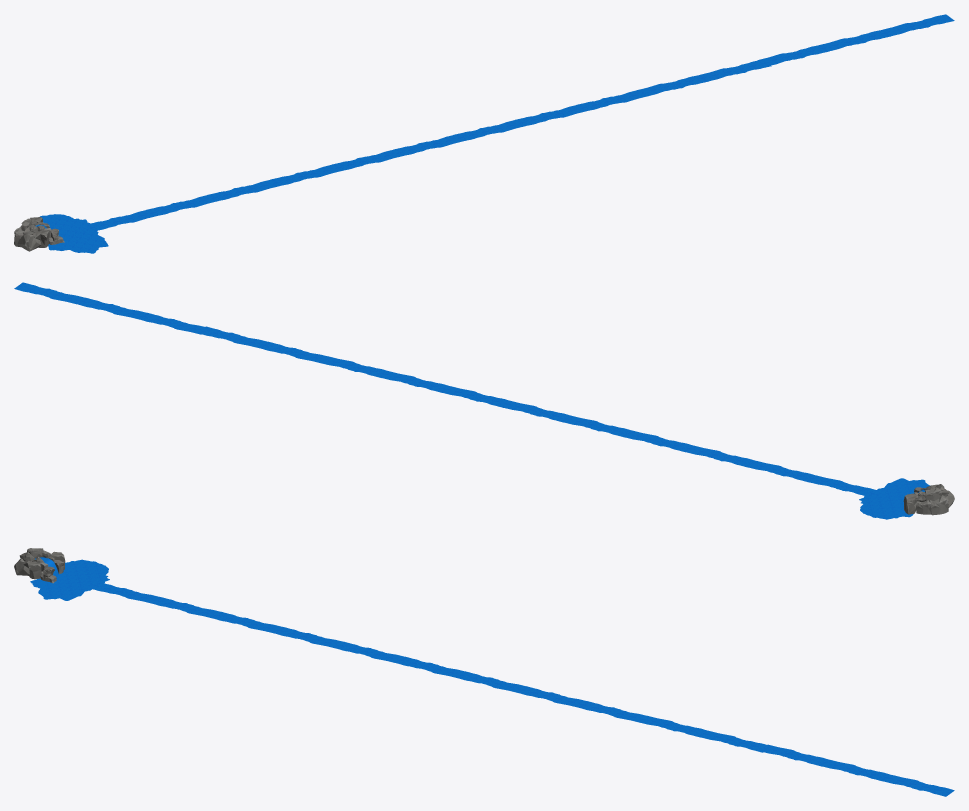
Rendered from waterfall.glb.
3 renders of one model, top to bottom at view 1: azimuth 30°, elevation 25°; view 2: azimuth 150°, elevation 25°; view 3: azimuth 330°, elevation 25°, orthographic.
Visible parts, largest first — view 1: waterfall; view 2: waterfall; view 3: waterfall.
Boxes of the visible parts, x1=… form: waterfall: x1=14, y1=14, x2=954, y2=253; waterfall: x1=14, y1=282, x2=954, y2=519; waterfall: x1=14, y1=548, x2=954, y2=796.
Bounding box in the file's own units: 73.98 × 1.64 × 7.08.
Materials: 3 (3 with a texture image).
